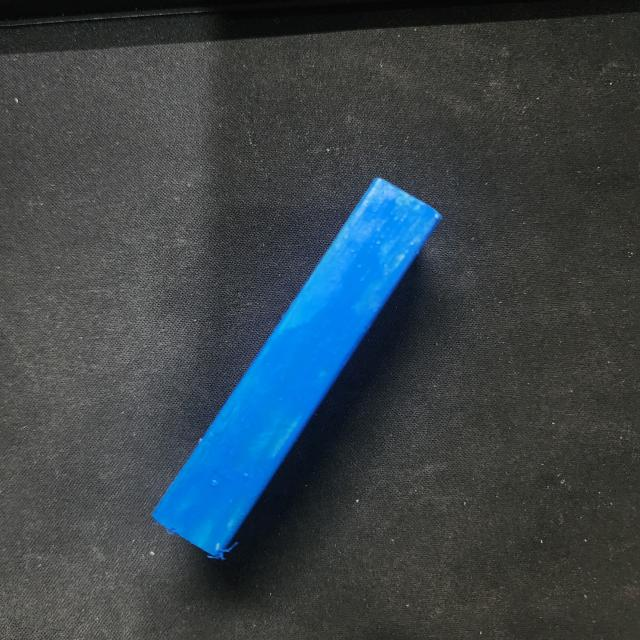blue: (151, 173, 442, 560)
